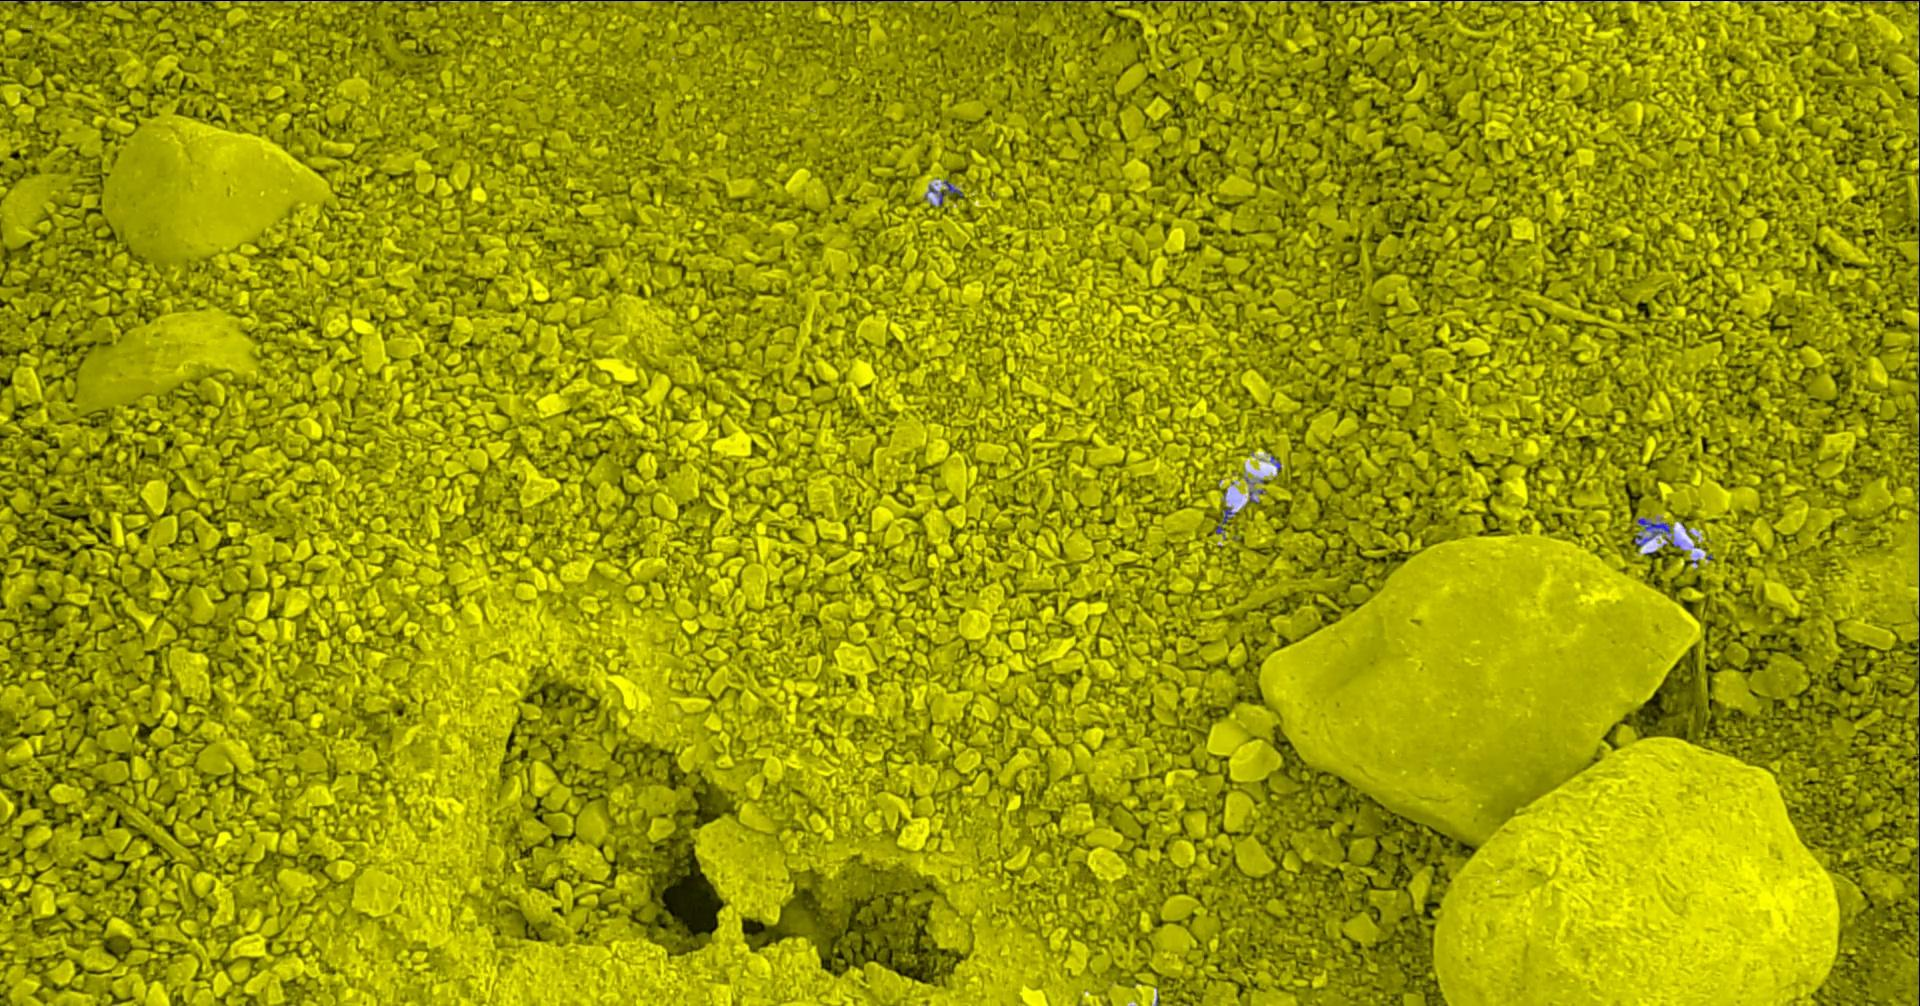ant: (1636, 518, 1672, 546), (930, 180, 965, 205), (1217, 506, 1237, 533)
